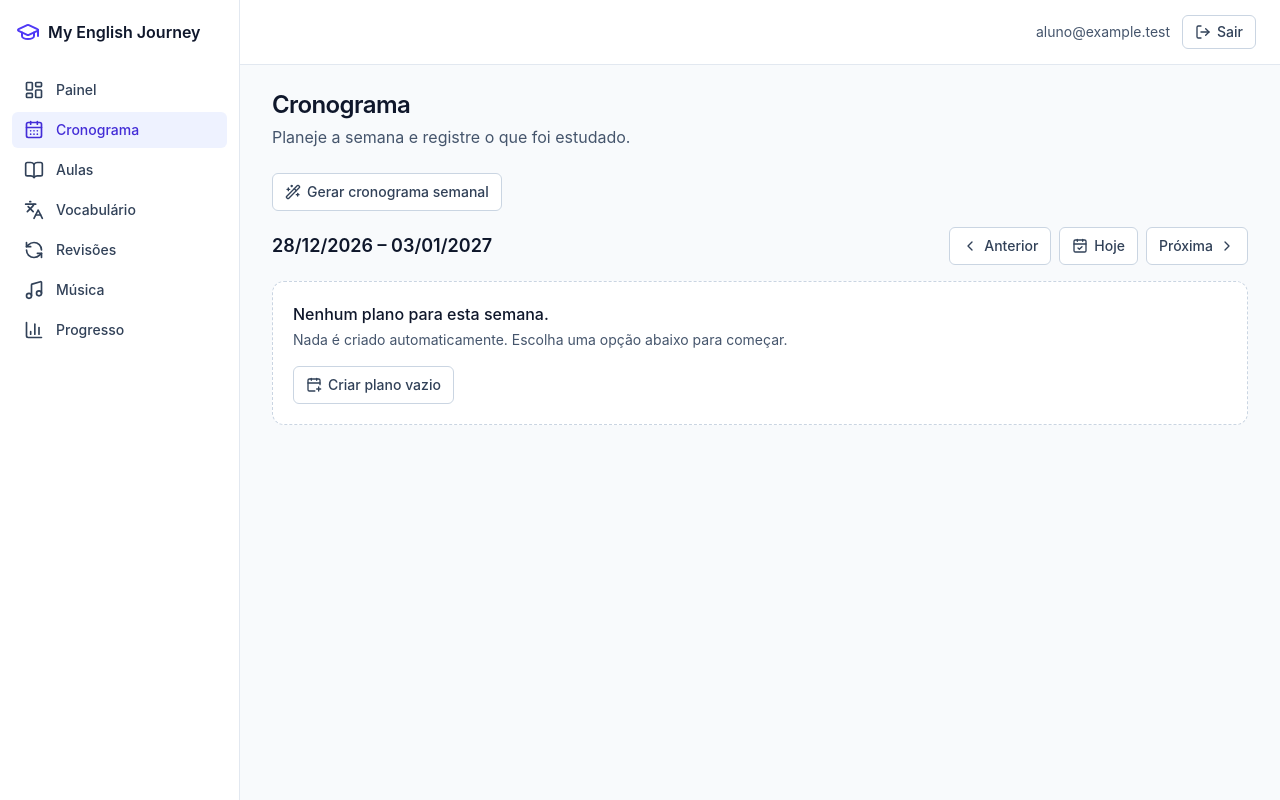
Test case: Cronograma — navegação e estados › normaliza ?week= para a segunda-feira e cruza a virada de ano
The width and height of the screenshot is (1280, 800).
Expected: the text "Nenhum plano para esta semana." is shown, [293,304,549,324]
Expected: the heading named "Semana de" reads "28/12/2026 – 03/01/2027", [272,235,492,256]
Click the button "Próxima": click(1197, 246) [1146,227,1248,265]
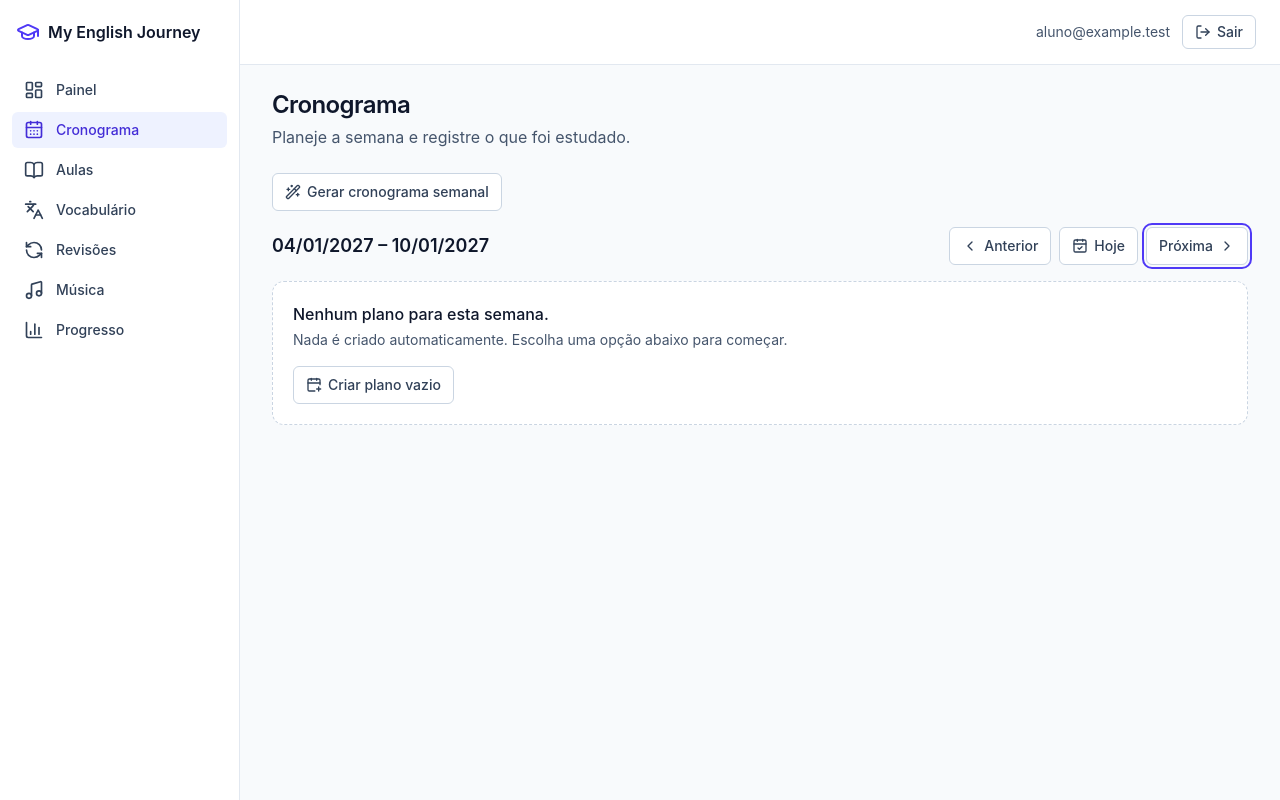
Now the heading named "Semana de" reads "04/01/2027 – 10/01/2027", box [272,235,489,256]
